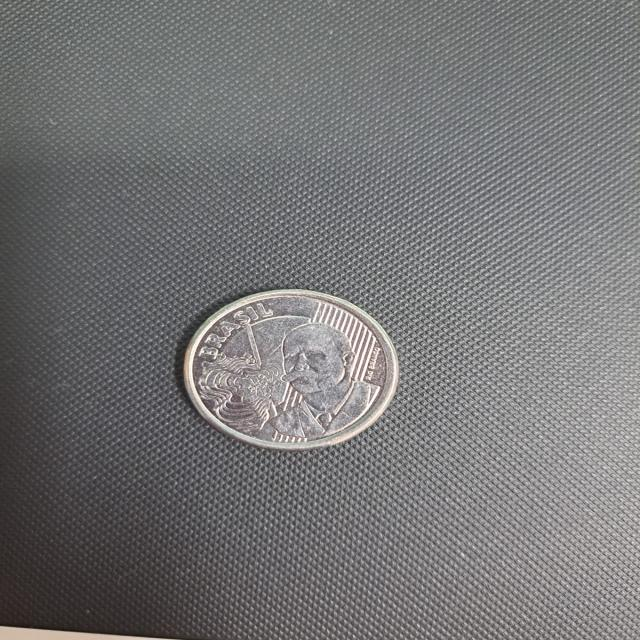50 cents: (177, 284, 404, 452)
